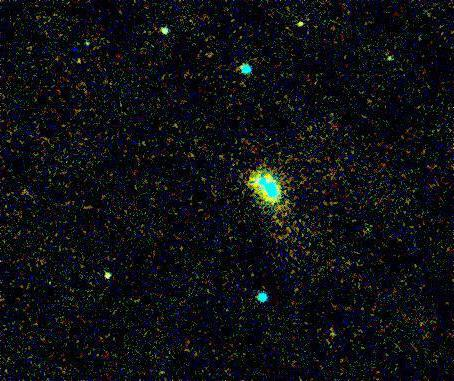star: (289, 6, 319, 36)
